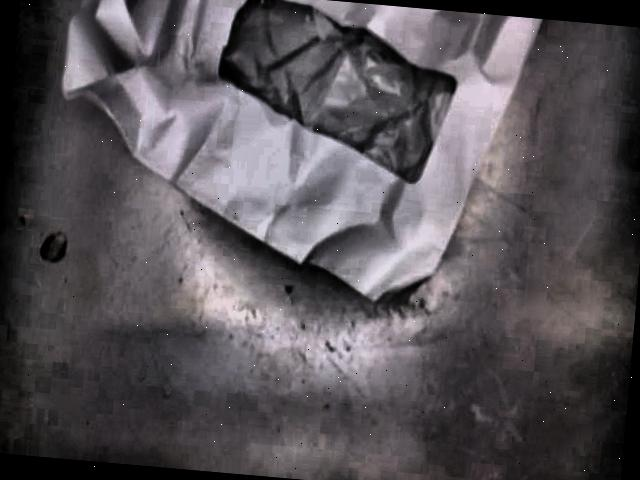Paper: (60, 0, 537, 304)
